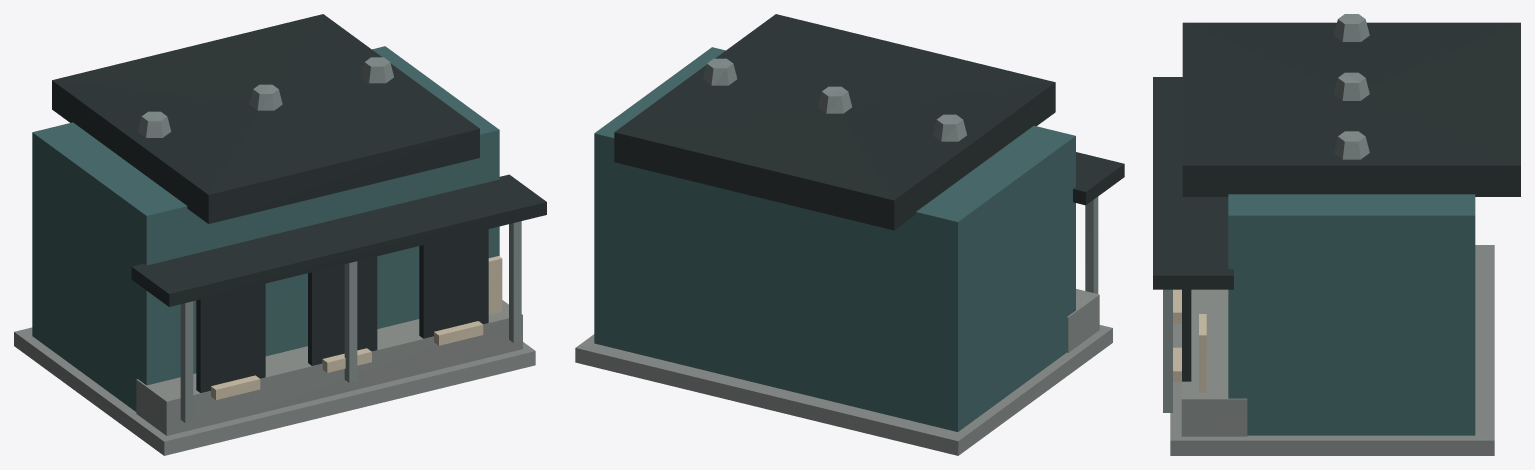
Rendered from distribution-warehouse.source.glb.
3 renders of one model, left to right at view 1: azimuth 30°, elevation 25°; view 2: azimuth 150°, elevation 25°; view 3: azimuth 270°, elevation 25°, orthographic. The views are drawn at different scales.
Parts seen in each view (by area): view 1: distribution-warehouse-low-gable-roof-mesh, distribution-warehouse-warehouse-main-volume-mesh, distribution-warehouse-broad-loading-canopy-mesh, distribution-warehouse-raised-loading-dock-mesh, distribution-warehouse-broad-concrete-foundation-mesh, distribution-warehouse-loading-bay-1.8-mesh, distribution-warehouse-loading-bay--1.8-mesh, distribution-warehouse-loading-bay-0-mesh, distribution-warehouse-canopy-support--2.65-mesh, distribution-warehouse-canopy-support-0-mesh, distribution-warehouse-canopy-support-2.65-mesh, distribution-warehouse-side-service-door-mesh (+6 smaller); view 2: distribution-warehouse-warehouse-main-volume-mesh, distribution-warehouse-low-gable-roof-mesh, distribution-warehouse-broad-concrete-foundation-mesh, distribution-warehouse-broad-loading-canopy-mesh, distribution-warehouse-raised-loading-dock-mesh, distribution-warehouse-canopy-support--2.65-mesh, distribution-warehouse-roof-vent--1.8-mesh, distribution-warehouse-roof-vent-0-mesh, distribution-warehouse-roof-vent-1.8-mesh; view 3: distribution-warehouse-warehouse-main-volume-mesh, distribution-warehouse-low-gable-roof-mesh, distribution-warehouse-broad-concrete-foundation-mesh, distribution-warehouse-broad-loading-canopy-mesh, distribution-warehouse-raised-loading-dock-mesh, distribution-warehouse-canopy-support-2.65-mesh, distribution-warehouse-loading-bay-1.8-mesh, distribution-warehouse-roof-vent-1.8-mesh, distribution-warehouse-roof-vent-0-mesh, distribution-warehouse-roof-vent--1.8-mesh, distribution-warehouse-side-service-door-mesh.
Boxes of the visible parts, x1,y1,x2,y2 form: distribution-warehouse-low-gable-roof-mesh: [52, 14, 479, 223]; distribution-warehouse-warehouse-main-volume-mesh: [32, 46, 499, 411]; distribution-warehouse-broad-loading-canopy-mesh: [131, 174, 546, 306]; distribution-warehouse-raised-loading-dock-mesh: [136, 300, 522, 435]; distribution-warehouse-broad-concrete-foundation-mesh: [14, 327, 535, 455]; distribution-warehouse-loading-bay-1.8-mesh: [419, 229, 488, 338]; distribution-warehouse-loading-bay--1.8-mesh: [196, 283, 265, 392]; distribution-warehouse-loading-bay-0-mesh: [308, 256, 377, 365]; distribution-warehouse-canopy-support--2.65-mesh: [180, 301, 193, 422]; distribution-warehouse-canopy-support-0-mesh: [344, 261, 357, 382]; distribution-warehouse-canopy-support-2.65-mesh: [509, 221, 521, 342]; distribution-warehouse-side-service-door-mesh: [488, 256, 502, 314]; distribution-warehouse-warehouse-main-volume-mesh: [594, 47, 1075, 431]; distribution-warehouse-low-gable-roof-mesh: [614, 14, 1055, 230]; distribution-warehouse-broad-concrete-foundation-mesh: [575, 325, 1112, 455]; distribution-warehouse-broad-loading-canopy-mesh: [1073, 152, 1124, 205]; distribution-warehouse-raised-loading-dock-mesh: [1067, 289, 1099, 352]; distribution-warehouse-canopy-support--2.65-mesh: [1085, 196, 1098, 293]; distribution-warehouse-roof-vent--1.8-mesh: [932, 114, 966, 141]; distribution-warehouse-roof-vent-0-mesh: [818, 86, 851, 113]; distribution-warehouse-roof-vent-1.8-mesh: [703, 58, 737, 85]; distribution-warehouse-warehouse-main-volume-mesh: [1228, 194, 1475, 435]; distribution-warehouse-low-gable-roof-mesh: [1182, 22, 1520, 196]; distribution-warehouse-broad-concrete-foundation-mesh: [1170, 245, 1494, 455]; distribution-warehouse-broad-loading-canopy-mesh: [1153, 77, 1233, 289]; distribution-warehouse-raised-loading-dock-mesh: [1181, 289, 1247, 436]; distribution-warehouse-canopy-support-2.65-mesh: [1163, 289, 1172, 412]; distribution-warehouse-loading-bay-1.8-mesh: [1182, 289, 1191, 381]; distribution-warehouse-roof-vent-1.8-mesh: [1333, 131, 1369, 159]; distribution-warehouse-roof-vent-0-mesh: [1334, 72, 1369, 100]; distribution-warehouse-roof-vent--1.8-mesh: [1333, 14, 1369, 41]; distribution-warehouse-side-service-door-mesh: [1199, 314, 1206, 392].
Size of the model in its own units: 6.1 by 4.01 by 4.77.
